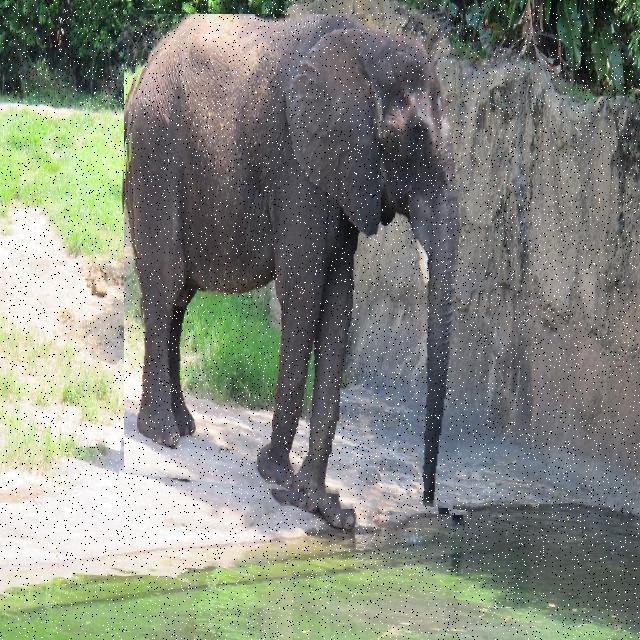elephant: (124, 14, 486, 511)
